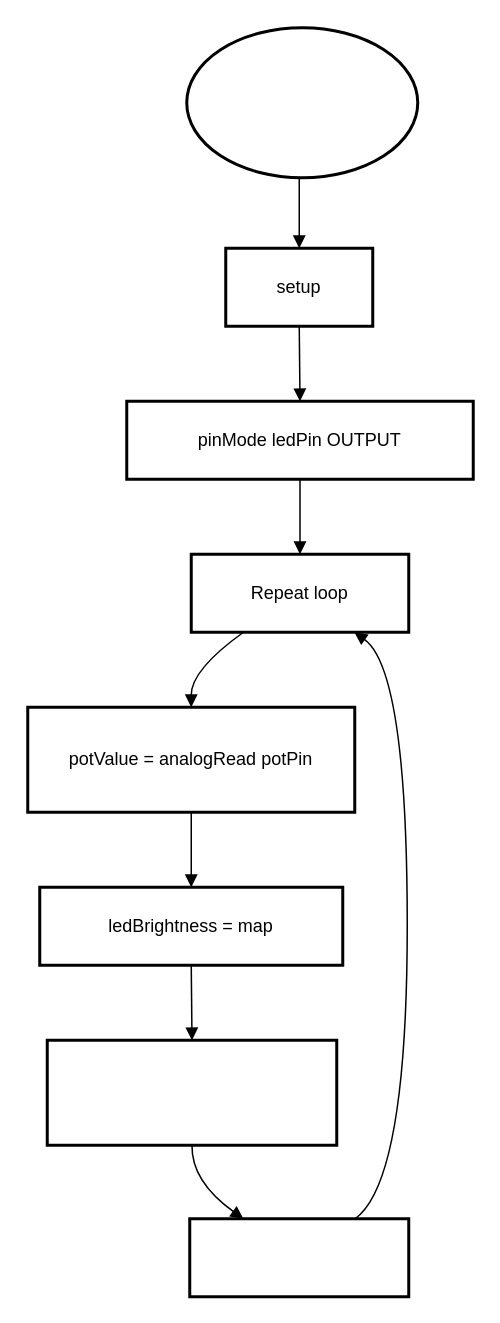
The diagram is 500 pixels wide and 1323 high, and some of its shapes have lost their labels. The shapes that lost their labels are listed below. From the top down, each one's centre as x and y in pixels, then its label:
the point at 301,102: Start
the point at 191,1092: analogWrite ledPin ledBrightness
the point at 299,1257: delay 100ms
